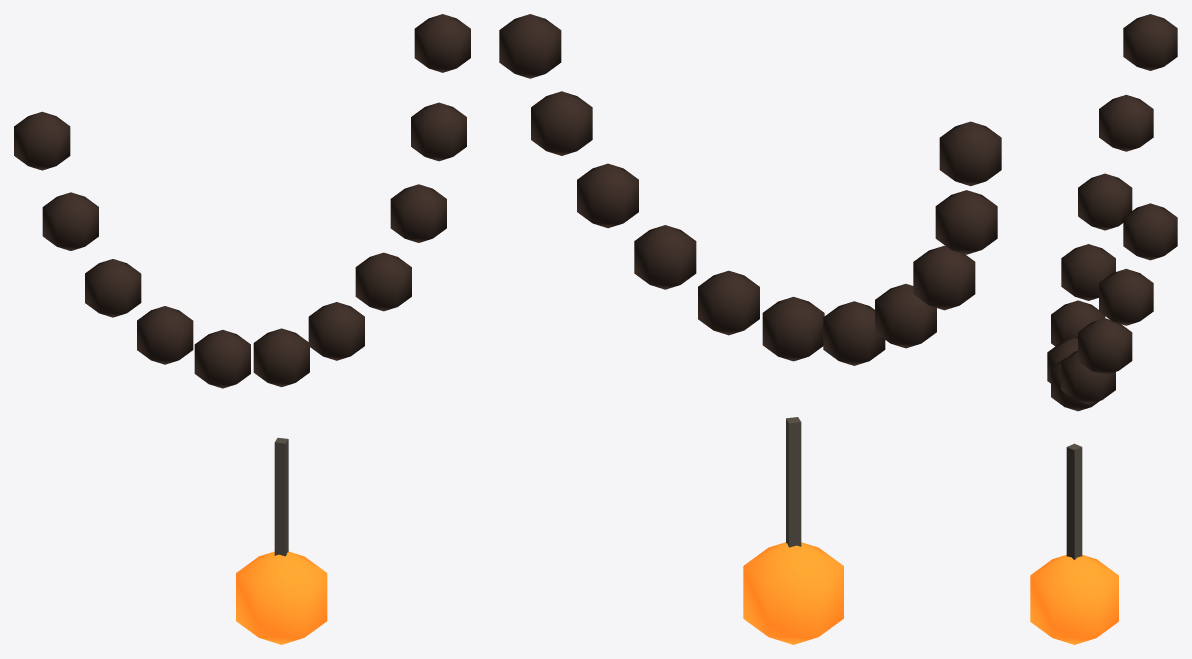
Rendered from npc_prayer_beads.glb.
3 views of the same model, side by side, from view 1: azimuth 30°, elevation 25°; view 2: azimuth 150°, elevation 25°; view 3: azimuth 270°, elevation 25° (orthographic). The views are drawn at different scales.
Parts seen in each view (by area): view 1: part.npc_prayer_beads; view 2: part.npc_prayer_beads; view 3: part.npc_prayer_beads.
Part boxes in pixels (x1,y1,x2,y2): part.npc_prayer_beads: [14, 14, 470, 644]; part.npc_prayer_beads: [499, 14, 1001, 644]; part.npc_prayer_beads: [1030, 14, 1177, 644].
Bounding box in the file's own units: 0.2517 × 0.3007 × 0.0749.
